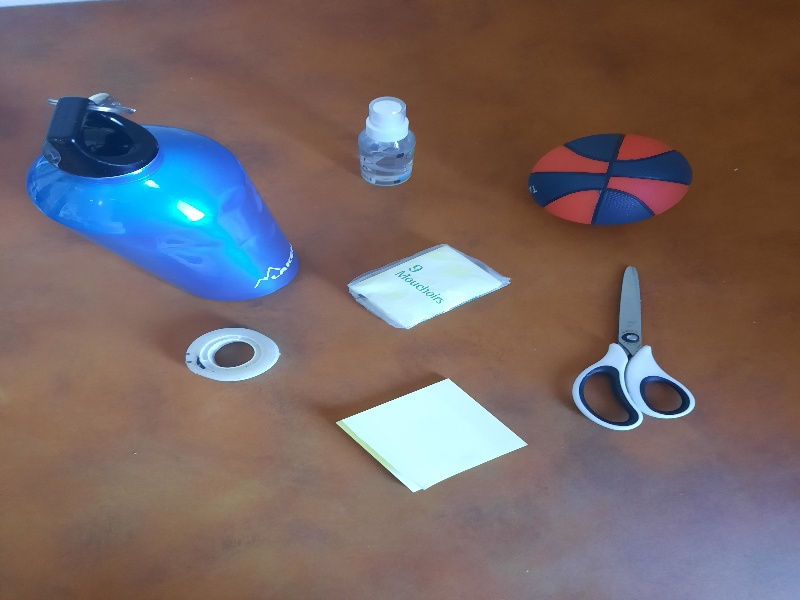ballon: (524, 132, 692, 230)
ciseaux: (570, 255, 696, 429)
gel: (353, 91, 419, 188)
gourde: (26, 93, 296, 304)
mouchoirs: (347, 245, 513, 334)
post-it: (331, 380, 532, 497)
scotch: (182, 324, 281, 382)
